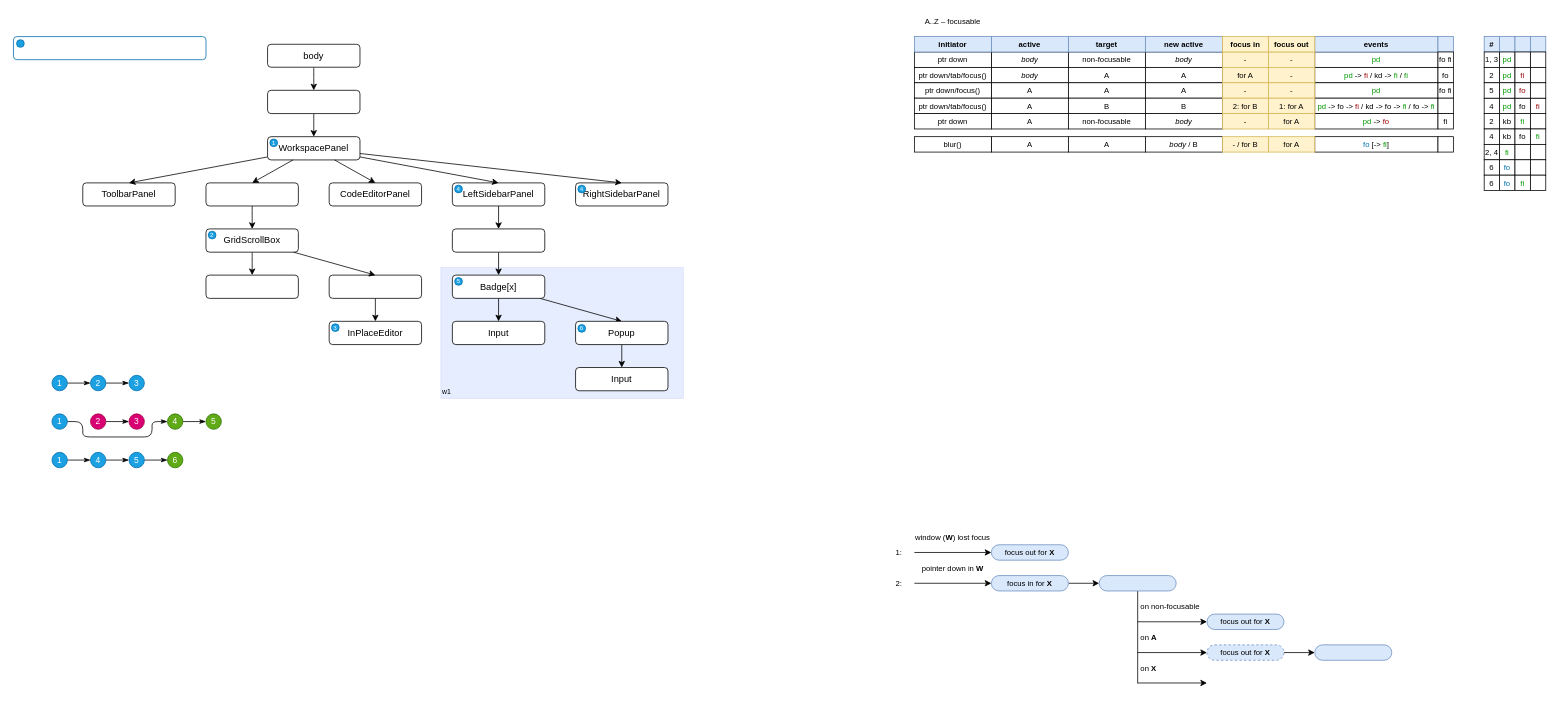
This 1559x702 diagram has some shape labels left out. The shapes that lost their labels are listed below. From the top down, each one's centre as x and y in pixels, then its label:
the point at 109,48: View: e.dataForSensor.context = model
the point at 313,102: AppWindow
the point at 251,194: SheetPanel
the point at 498,240: InspectorPanel
the point at 251,286: Quarter[0..3]Grid
the point at 375,286: OverlayGrid
the point at 1137,583: pointer down
the point at 1353,652: focus in for A
